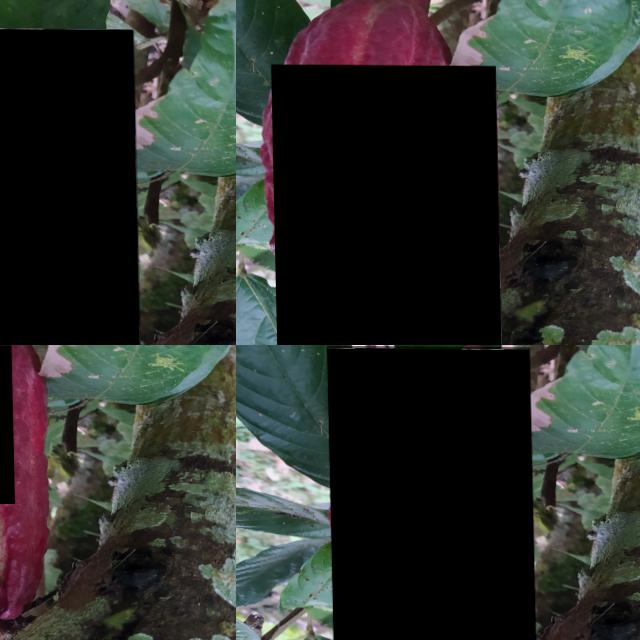Monilia: (269, 64, 502, 345)
Sana: (326, 345, 534, 640), (0, 26, 141, 345), (0, 445, 25, 523)
